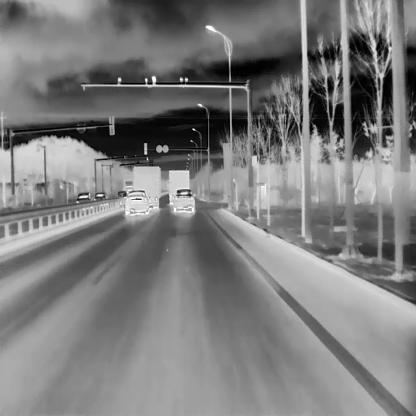car: (134, 166, 158, 208), (169, 170, 189, 205), (125, 190, 150, 215), (173, 189, 194, 212), (123, 176, 133, 197), (75, 191, 91, 202), (94, 192, 107, 200), (117, 190, 127, 198)
